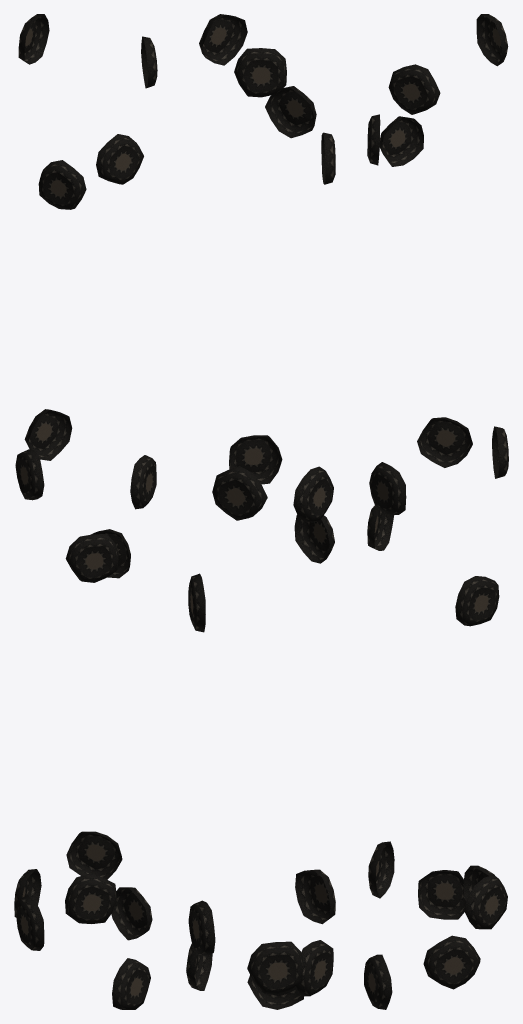
File: Sitka_Mature_02_MediumPruned_Healed_LOD1.fbx
3 renders of one model, left to right at view 1: azimuth 30°, elevation 25°; view 2: azimuth 150°, elevation 25°; view 3: azimuth 270°, elevation 25°, orthographic. The views are drawn at different scales.
Visible parts, largest first — view 1: Sitka_Mature_02_MediumPruned_Healed_LOD1_Scars; view 2: Sitka_Mature_02_MediumPruned_Healed_LOD1_Scars; view 3: Sitka_Mature_02_MediumPruned_Healed_LOD1_Scars.
Part boxes in pixels (x1=…): Sitka_Mature_02_MediumPruned_Healed_LOD1_Scars: x1=14, y1=14, x2=157, y2=1009; Sitka_Mature_02_MediumPruned_Healed_LOD1_Scars: x1=186, y1=14, x2=335, y2=1009; Sitka_Mature_02_MediumPruned_Healed_LOD1_Scars: x1=364, y1=14, x2=508, y2=1009.
Size of what is drawn, in the model's own units: 31.51 by 236 by 31.85.
Materials: 2 (2 with a texture image).
